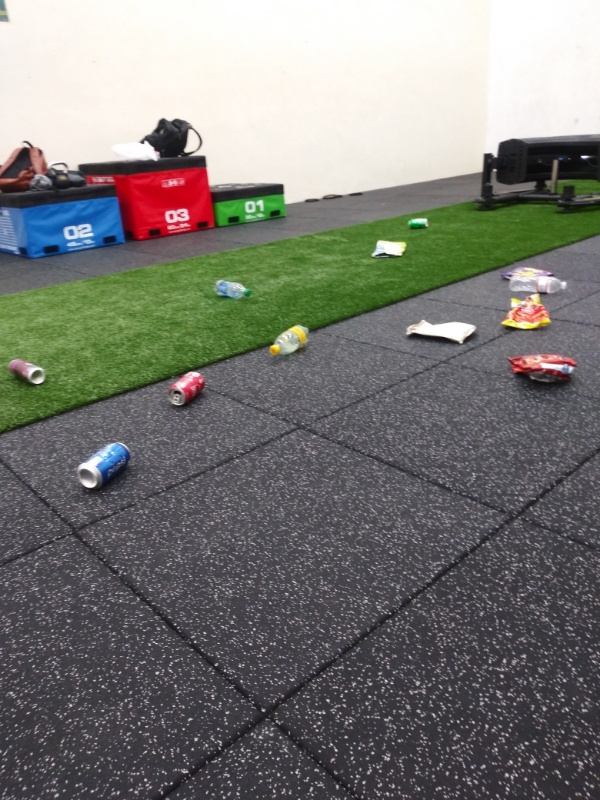bag: (400, 311, 482, 348), (504, 349, 580, 388), (496, 294, 554, 334), (366, 237, 410, 263), (498, 263, 555, 281)
bottle: (267, 321, 317, 365), (509, 271, 574, 297), (208, 275, 255, 304)
can: (76, 440, 132, 495), (163, 367, 210, 412), (3, 357, 48, 389), (403, 213, 432, 234)
